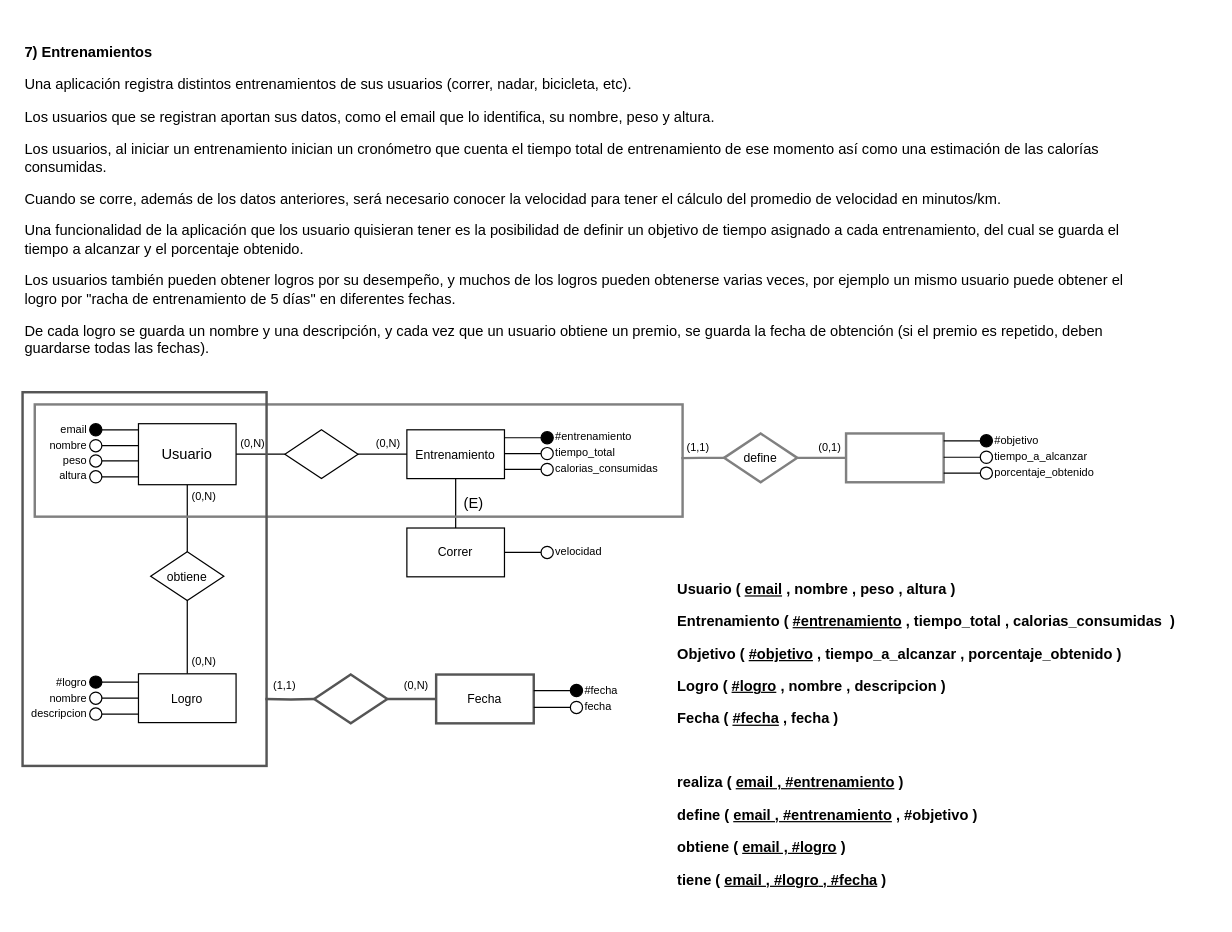
The diagram is 1232 pixels wide and 932 high, and some of its shapes have lost their labels. The centre of each missing label's shape, as x and y in pixels:
Objetivo: [894,457]
realiza: [321,454]
tiene: [350,698]
